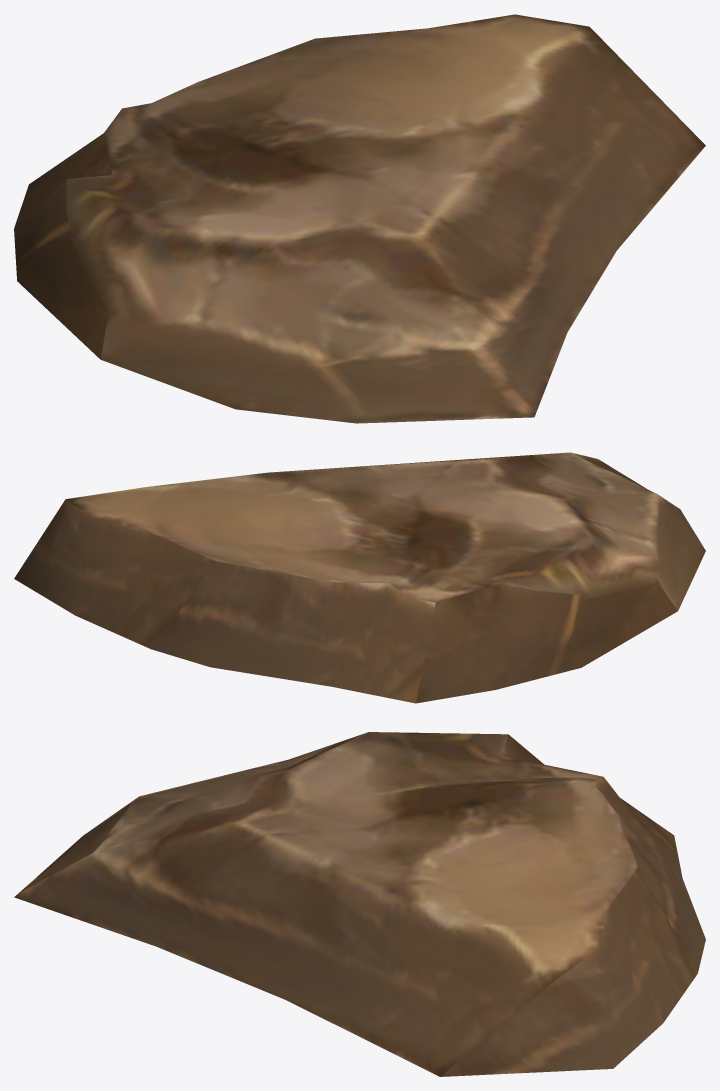
The model's file is D_shikuai002.fbx.
The picture shows the model from 3 angles, top to bottom: view 1: azimuth 30°, elevation 25°; view 2: azimuth 150°, elevation 25°; view 3: azimuth 270°, elevation 25°; orthographic projection. The views are drawn at different scales.
Parts seen in each view (by area): view 1: D_shikuai002; view 2: D_shikuai002; view 3: D_shikuai002.
Boxes of the visible parts, bbox=[...] form: D_shikuai002: bbox=[14, 14, 705, 423]; D_shikuai002: bbox=[14, 452, 705, 703]; D_shikuai002: bbox=[14, 732, 705, 1076].
Size of the model in its own units: 22.24 by 3.05 by 21.89.
